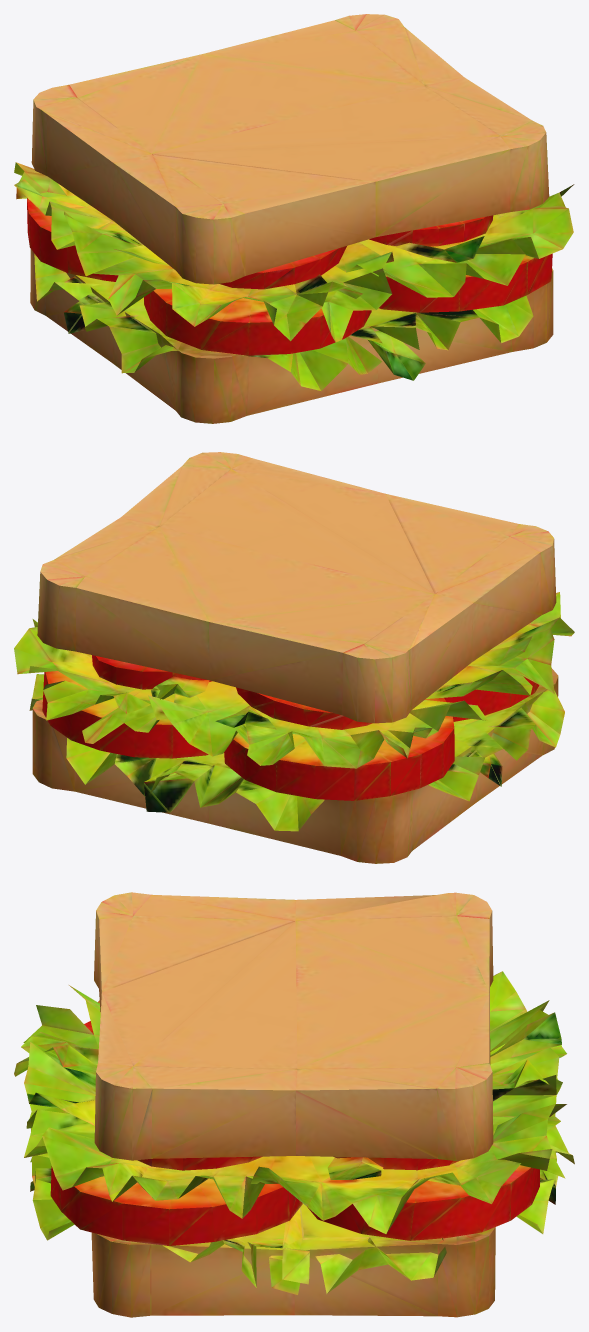
File: sandwich.glb
3 renders of one model, top to bottom at view 1: azimuth 30°, elevation 25°; view 2: azimuth 150°, elevation 25°; view 3: azimuth 270°, elevation 25°, orthographic. The views are drawn at different scales.
Visible parts, largest first — view 1: Mesh_0; view 2: Mesh_0; view 3: Mesh_0.
Part boxes in pixels (<box>): Mesh_0: <box>14,14,574,423</box>; Mesh_0: <box>14,452,574,863</box>; Mesh_0: <box>14,892,574,1317</box>.
Bounding box in the file's own units: 15.3 × 6.74 × 15.06.
1 material, 1 textured.
